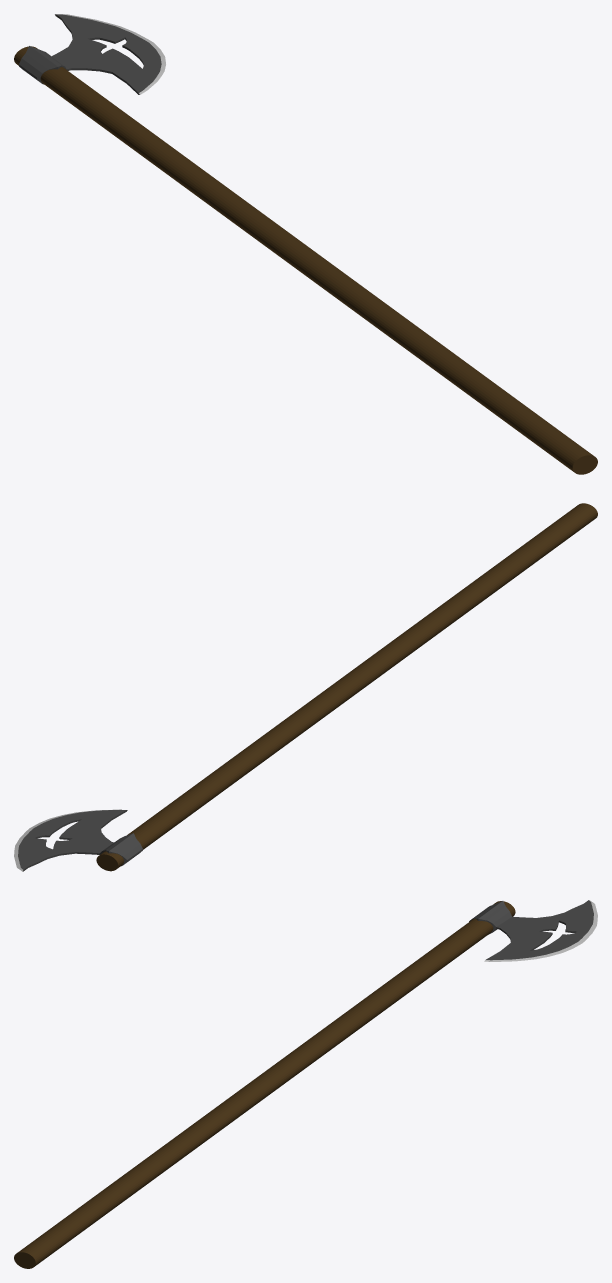
File: krz_topor 1.fbx
The picture shows the model from 3 angles, top to bottom: view 1: azimuth 30°, elevation 25°; view 2: azimuth 150°, elevation 25°; view 3: azimuth 330°, elevation 25°; orthographic projection. The views are drawn at different scales.
Parts seen in each view (by area): view 1: Walec; view 2: Walec; view 3: Walec.
Boxes of the visible parts, x1,y1,x2,y2 form: Walec: [14, 14, 597, 474]; Walec: [14, 503, 597, 871]; Walec: [14, 900, 597, 1268].
Size of the model in its own units: 143 by 25.47 by 1183.
